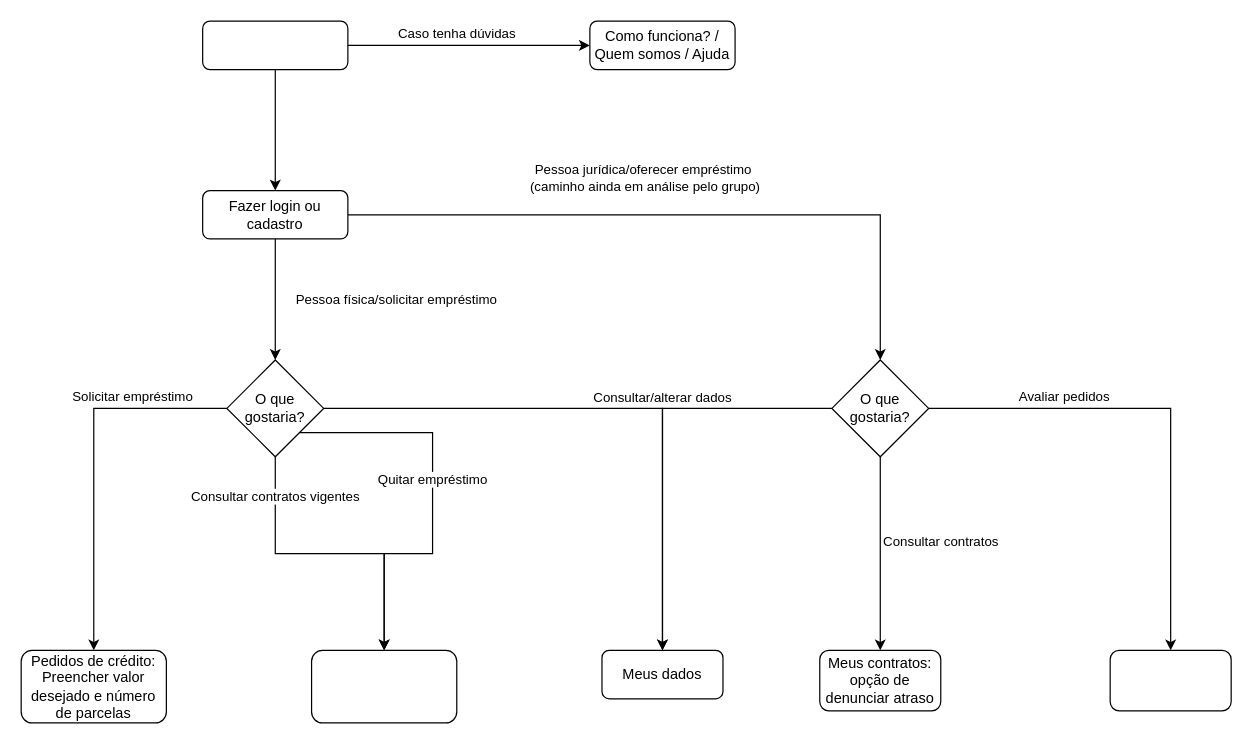
Image size: 1252x744. Some labels were removed from this diagram. The shapes that lost their labels are listed below. From the top down, each one's box as (x1, y1, x2, y2) in pixels, then its label:
(201, 20, 348, 70): Usuário acessa a homepage
(310, 649, 457, 723): Meus contratos: opção de quitar dívidas abertas ou renegociar os termos
(1109, 649, 1231, 711): Meus pedidos: opção de aceitar/recusar
